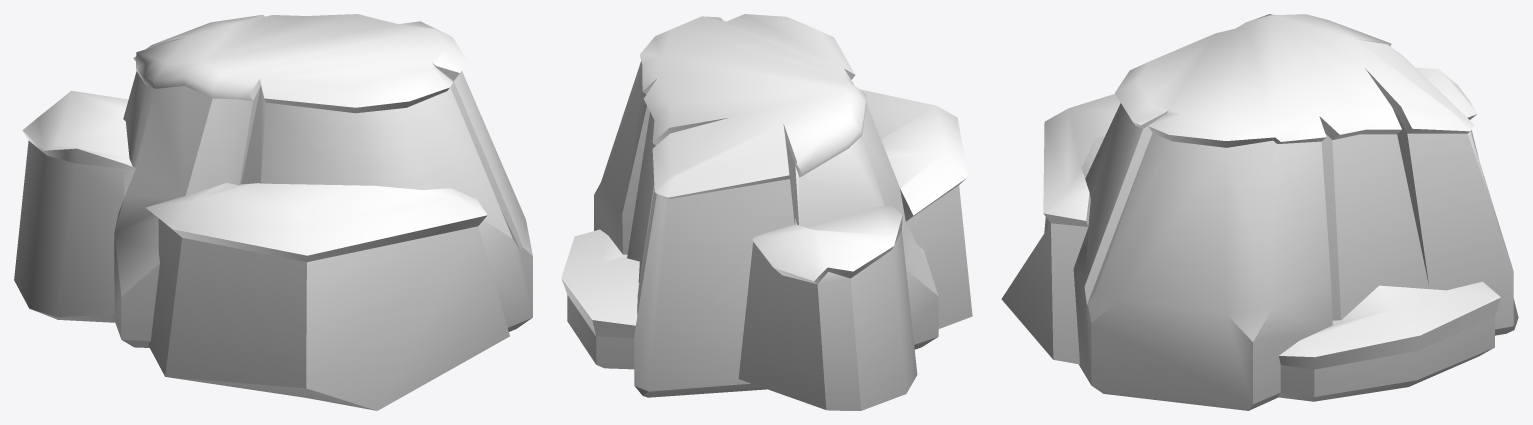
The model's file is Rock_12.fbx.
3 renders of one model, left to right at view 1: azimuth 30°, elevation 25°; view 2: azimuth 150°, elevation 25°; view 3: azimuth 270°, elevation 25°, orthographic. The views are drawn at different scales.
Parts seen in each view (by area): view 1: Rock_12, Rock_12_Snow; view 2: Rock_12, Rock_12_Snow; view 3: Rock_12, Rock_12_Snow.
Part boxes in pixels (<box>): Rock_12: <box>14,70,532,410</box>; Rock_12_Snow: <box>22,14,487,261</box>; Rock_12: <box>567,61,972,410</box>; Rock_12_Snow: <box>561,14,967,338</box>; Rock_12: <box>1001,103,1518,410</box>; Rock_12_Snow: <box>1043,14,1500,369</box>.
Bounding box in the file's own units: 2.88 × 1.85 × 3.2.
